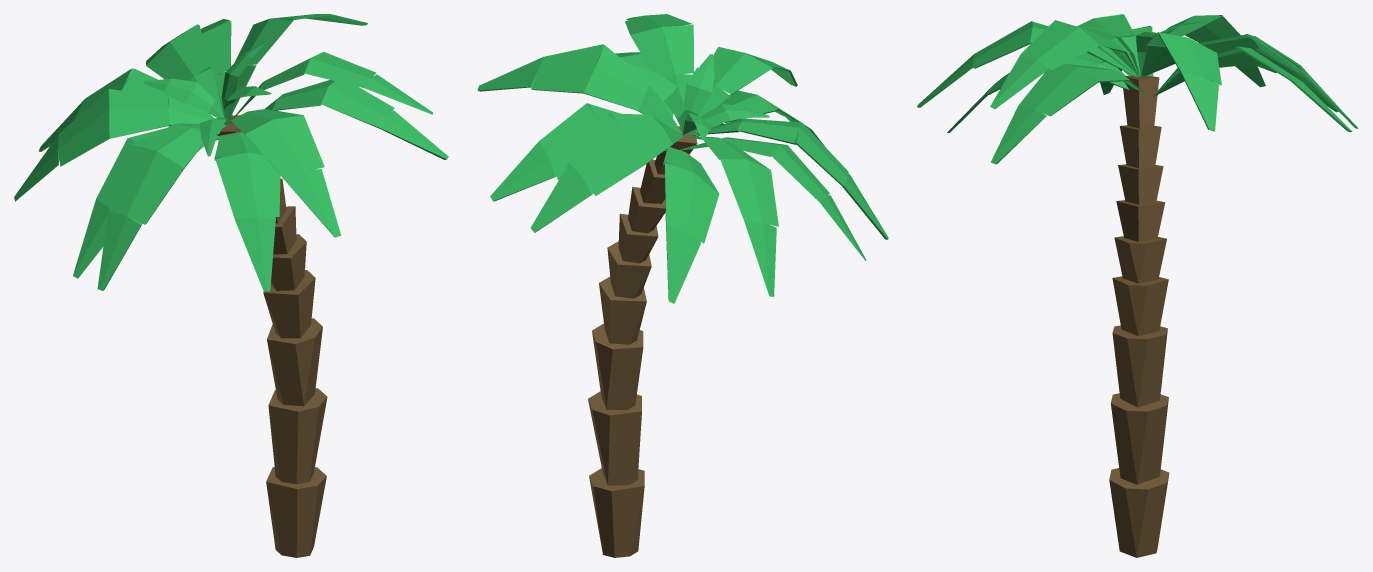
Rendered from Palm_Tree_B.fbx.
3 views of the same model, side by side, from view 1: azimuth 30°, elevation 25°; view 2: azimuth 150°, elevation 25°; view 3: azimuth 270°, elevation 25° (orthographic). The views are drawn at different scales.
Visible parts, largest first — view 1: Palm_Tree_B; view 2: Palm_Tree_B; view 3: Palm_Tree_B.
Part boxes in pixels (x1=…): Palm_Tree_B: x1=14, y1=14, x2=448, y2=557; Palm_Tree_B: x1=477, y1=14, x2=888, y2=557; Palm_Tree_B: x1=917, y1=14, x2=1358, y2=557.
Size of the model in its own units: 205 by 296 by 228.
